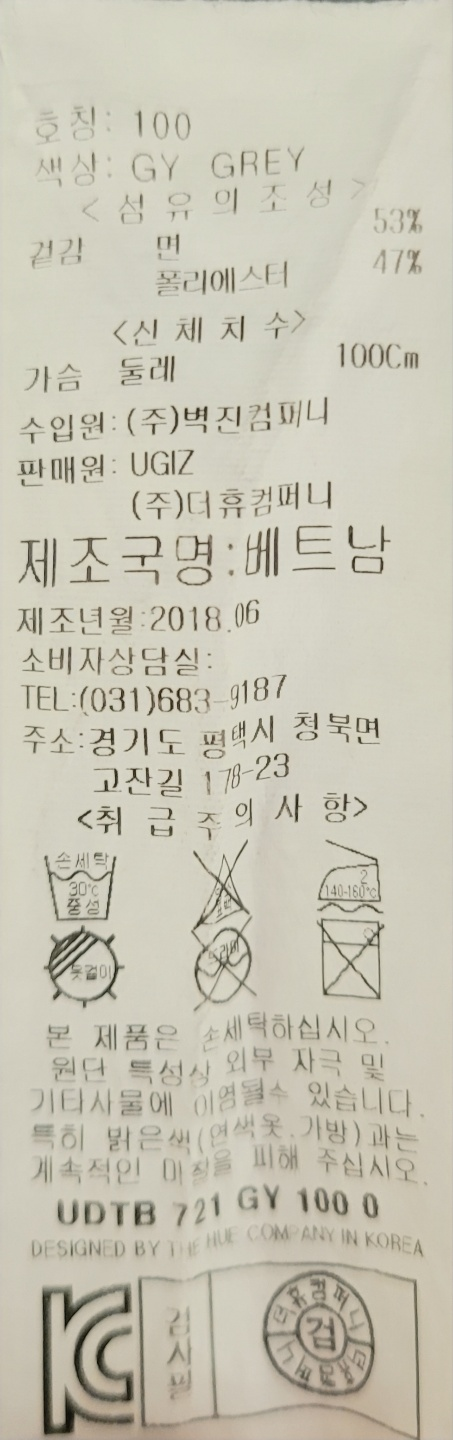KR_hand_wash_30_neutral: (38, 842, 123, 928)
KR_hang_dry_in_shade: (37, 926, 128, 1009)
KR_iron_medium_temp_with_cloth: (302, 833, 397, 918)
KR_no_chlorine_bleach: (177, 854, 262, 927)
KR_no_dry_clean: (185, 929, 259, 1012)
